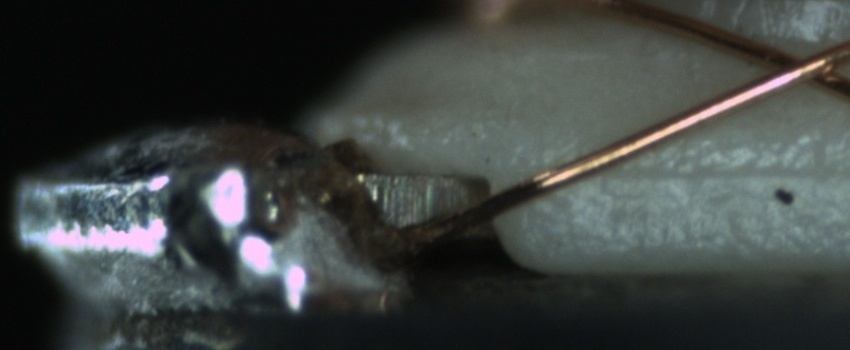CL: (745, 38, 848, 98)
DL: (564, 138, 849, 205)
